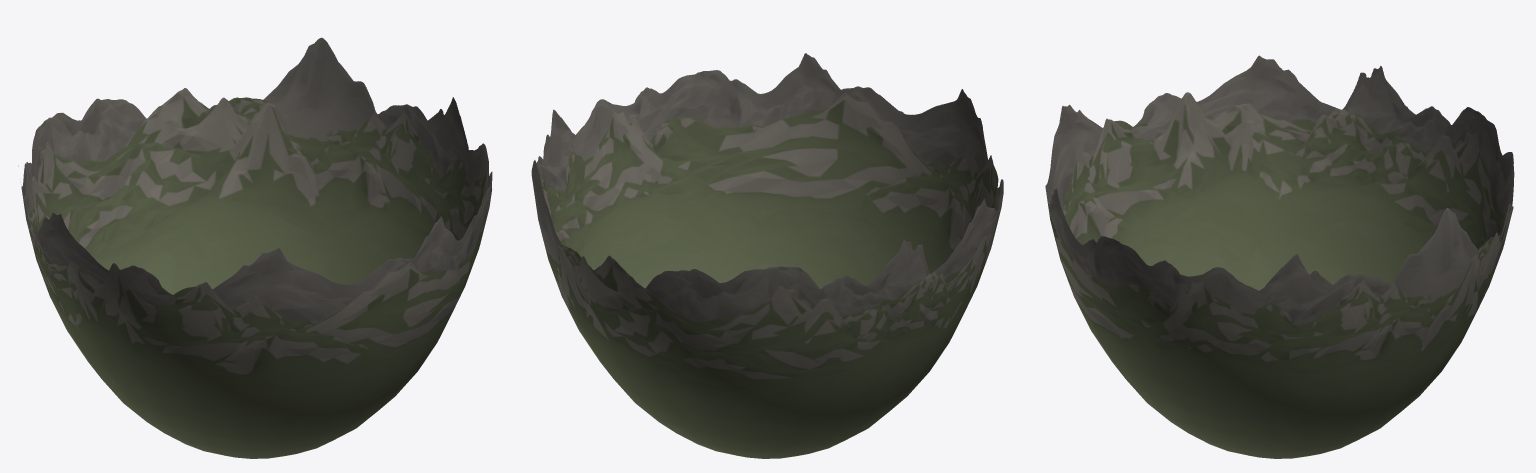
Rendered from MountainSkybox (1).fbx.
3 renders of one model, left to right at view 1: azimuth 30°, elevation 25°; view 2: azimuth 150°, elevation 25°; view 3: azimuth 270°, elevation 25°, orthographic.
Visible parts, largest first — view 1: MountainSkybox__1_; view 2: MountainSkybox__1_; view 3: MountainSkybox__1_.
Part boxes in pixels (left/top/right/bottom): MountainSkybox__1_: left=18, top=37, right=492, bottom=458; MountainSkybox__1_: left=531, top=53, right=1003, bottom=458; MountainSkybox__1_: left=1045, top=55, right=1514, bottom=458.
Bounding box in the file's own units: 52115 × 38965 × 52115.
